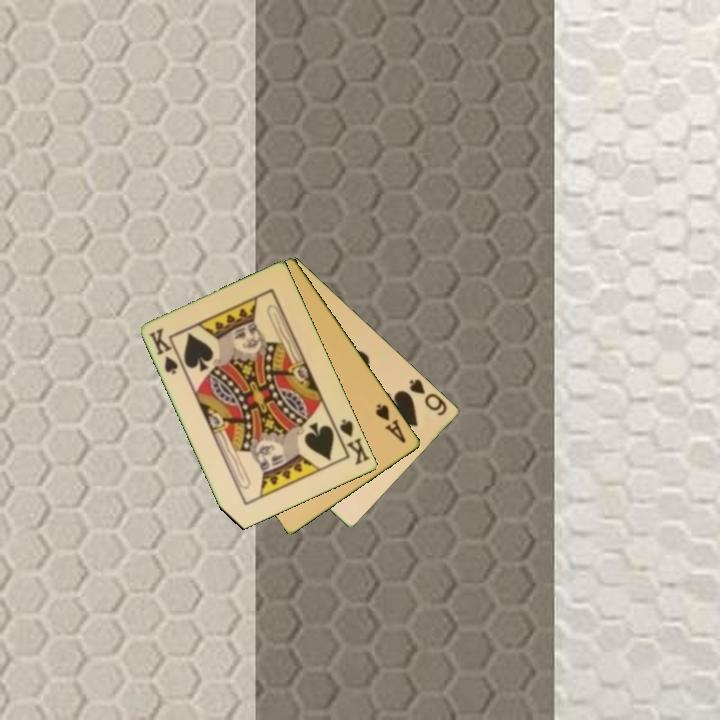6s: (406, 375, 451, 419)
As: (372, 400, 409, 446)
Ks: (336, 415, 373, 468), (146, 325, 181, 377)
